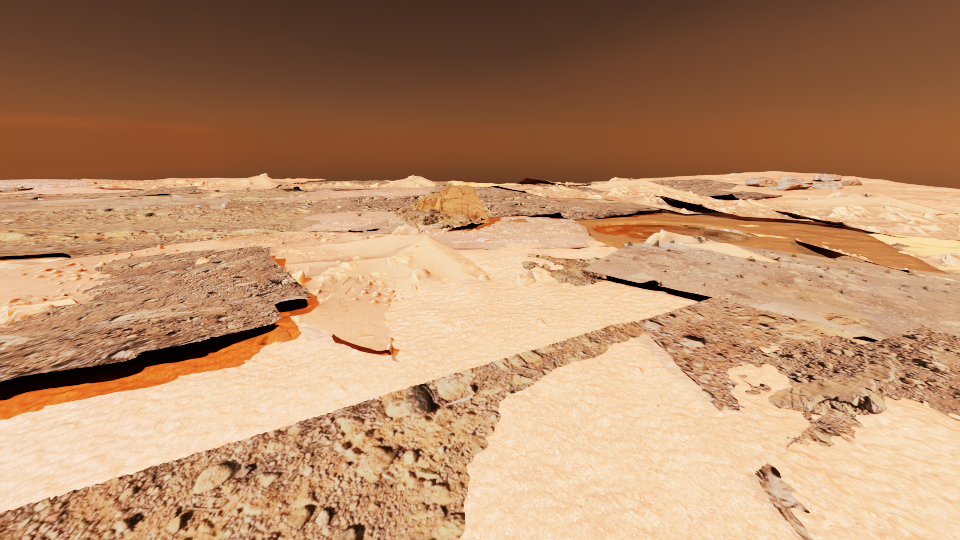bedrock: (521, 239, 959, 420), (0, 246, 310, 382), (271, 184, 661, 243), (0, 216, 292, 246), (0, 192, 292, 211), (649, 179, 782, 199), (0, 181, 93, 191), (130, 186, 202, 193), (561, 184, 607, 193), (574, 199, 641, 204), (0, 192, 38, 197), (349, 180, 388, 184), (300, 181, 336, 184), (268, 210, 304, 212), (536, 183, 558, 186), (293, 194, 312, 196)
hole: (592, 222, 752, 241)
rocks: (418, 185, 487, 219), (745, 174, 861, 190)
sand: (0, 242, 712, 512), (459, 334, 959, 539), (641, 171, 959, 212), (859, 229, 959, 255), (699, 213, 829, 224), (0, 253, 70, 270), (0, 185, 142, 193), (435, 181, 522, 186), (161, 178, 241, 181), (273, 178, 325, 182), (849, 336, 877, 343), (200, 186, 247, 189), (760, 345, 779, 352), (249, 184, 281, 188), (711, 196, 739, 199), (209, 193, 237, 196), (278, 310, 289, 316), (938, 266, 959, 269), (811, 415, 820, 419)
soil: (0, 298, 805, 539), (0, 182, 434, 312), (490, 180, 959, 277), (755, 462, 812, 539), (327, 270, 433, 310), (786, 408, 863, 447), (274, 295, 325, 324), (431, 235, 510, 248), (489, 214, 566, 227), (96, 179, 190, 188), (241, 325, 273, 344), (650, 190, 693, 202), (381, 334, 399, 362), (743, 380, 771, 394), (659, 232, 691, 242), (0, 179, 83, 182), (350, 266, 369, 277), (396, 225, 416, 234), (0, 205, 36, 209), (94, 182, 112, 188), (839, 192, 859, 196)
